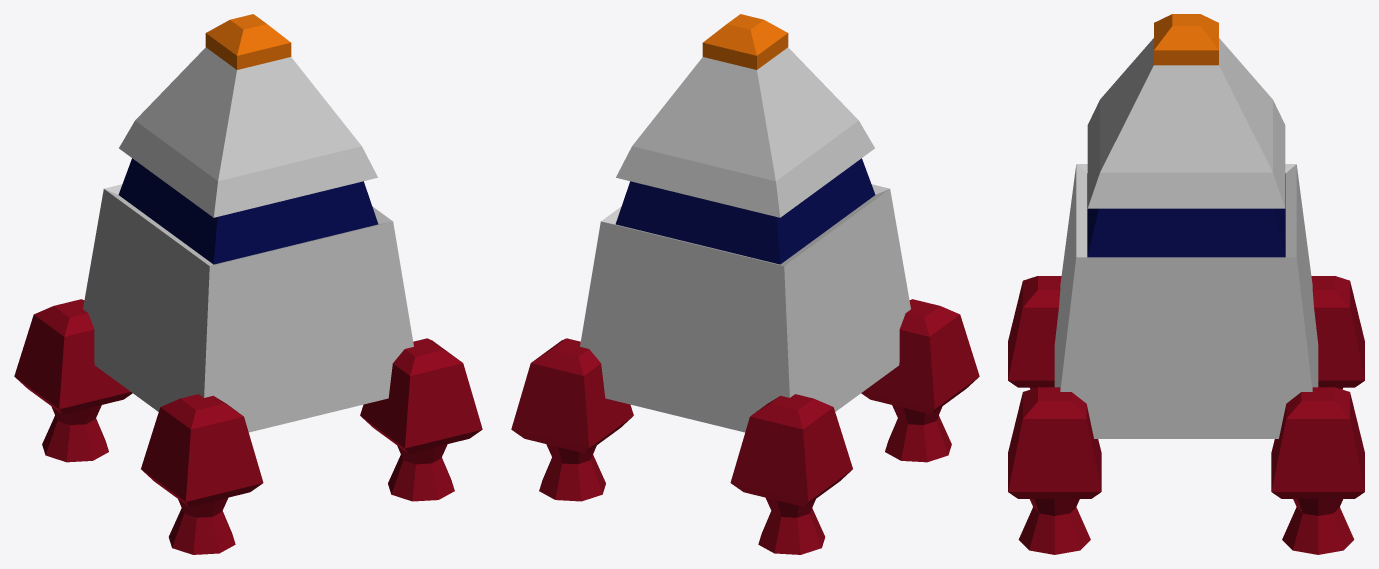
Rendered from ROKET.fbx.
3 views of the same model, side by side, from view 1: azimuth 30°, elevation 25°; view 2: azimuth 150°, elevation 25°; view 3: azimuth 270°, elevation 25° (orthographic). The views are drawn at different scales.
Parts seen in each view (by area): view 1: Plane, Cube; view 2: Plane, Cube; view 3: Plane, Cube.
Part boxes in pixels (x1,y1,x2,y2): Plane: (83, 14, 413, 432); Cube: (14, 299, 482, 554); Plane: (580, 14, 910, 432); Cube: (511, 299, 979, 554); Plane: (1054, 14, 1318, 438); Cube: (1008, 276, 1364, 554).
Bounding box in the file's own units: 271 × 389 × 271.
